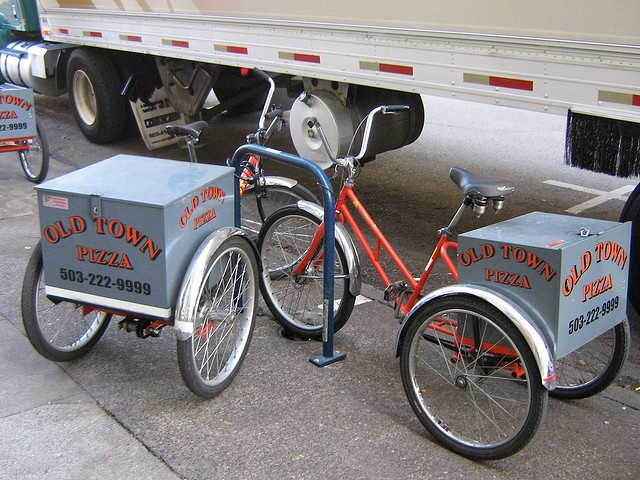non-vehicle: (252, 104, 632, 461), (22, 63, 323, 403), (0, 83, 49, 180)
